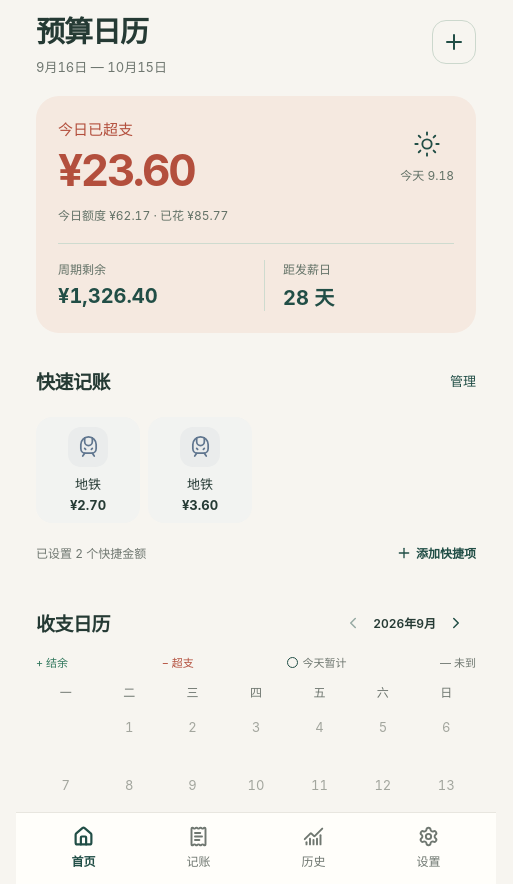
hybrid home › records a preset with one tap and offers undo
Click the button "地铁 ¥3.60". click: x=200, y=470
box: [148,417,252,523]
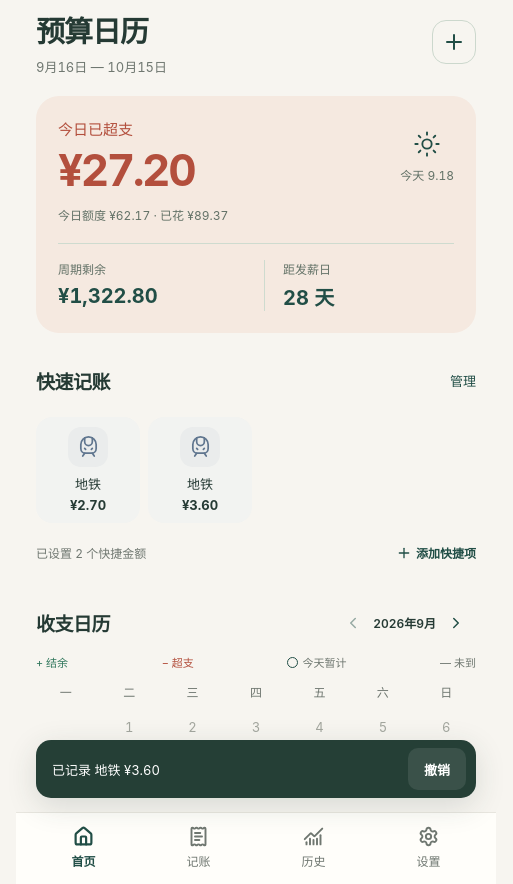
Expected: the message shows "已记录", [52,762,160,778]
Expected: the button "撤销" is shown, [408,748,466,790]
